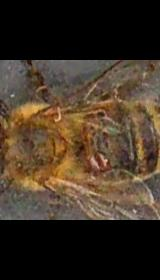varroa_mite: (88, 144, 110, 177)
